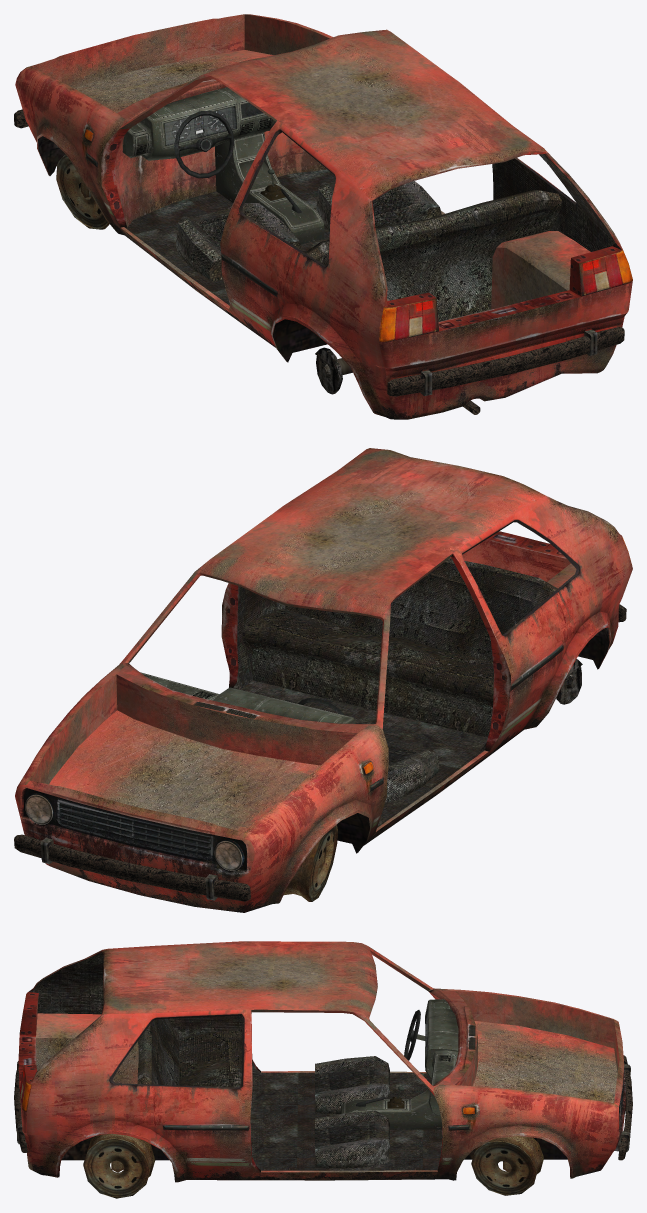
File: car_b_chassi.fbx
3 views of the same model, one above another, from view 1: azimuth 30°, elevation 25°; view 2: azimuth 150°, elevation 25°; view 3: azimuth 270°, elevation 25° (orthographic). The views are drawn at different scales.
Visible parts, largest first — view 1: car_b_chassi_mesh; view 2: car_b_chassi_mesh; view 3: car_b_chassi_mesh.
Boxes of the visible parts, x1,y1,x2,y2 form: car_b_chassi_mesh: [14, 14, 632, 419]; car_b_chassi_mesh: [14, 448, 632, 912]; car_b_chassi_mesh: [14, 941, 632, 1198].
Size of the model in its own units: 2.12 by 1.55 by 4.85.
Materials: 7 (7 with a texture image).
